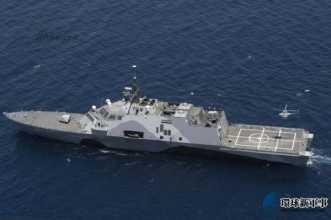warship: (5, 89, 313, 162)
